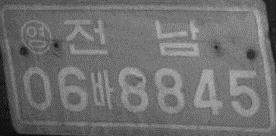0: (22, 66, 53, 111)
4: (191, 68, 223, 116)
5: (227, 69, 260, 118)
6: (56, 65, 87, 112)
8: (116, 64, 150, 113), (153, 66, 185, 114)
바: (89, 68, 114, 109)
영: (19, 18, 52, 54)
전남_D: (63, 18, 202, 57)
